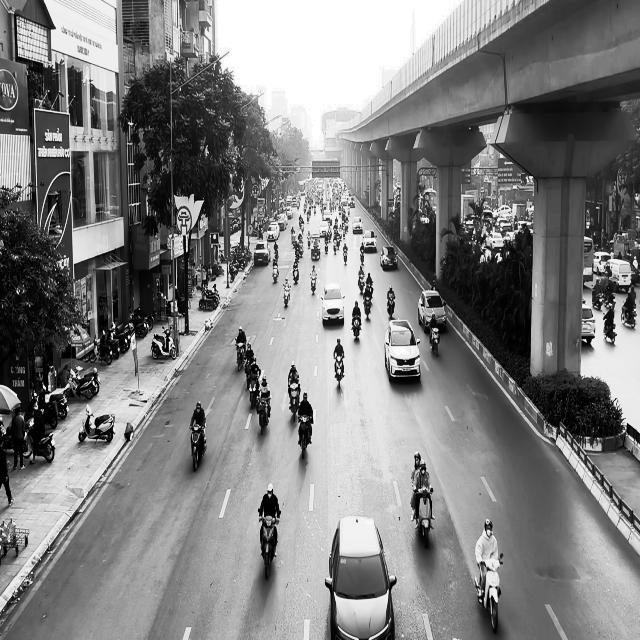car: (324, 515, 396, 639), (384, 318, 421, 381), (418, 289, 447, 332), (320, 281, 345, 325), (581, 305, 596, 344), (380, 245, 398, 270), (253, 240, 270, 265), (360, 230, 377, 252), (352, 216, 362, 233)
motorbike: (474, 554, 503, 633), (258, 508, 280, 579), (78, 403, 115, 443), (412, 486, 434, 548), (189, 422, 207, 472), (151, 326, 176, 359), (297, 414, 312, 459), (256, 394, 271, 435), (288, 383, 300, 421), (248, 374, 260, 409), (621, 302, 636, 328), (602, 317, 616, 344), (334, 355, 344, 388), (429, 326, 440, 356), (236, 340, 246, 371), (352, 315, 362, 339), (363, 294, 372, 320), (387, 295, 395, 320), (283, 284, 290, 307), (310, 272, 317, 295), (272, 261, 279, 283)
